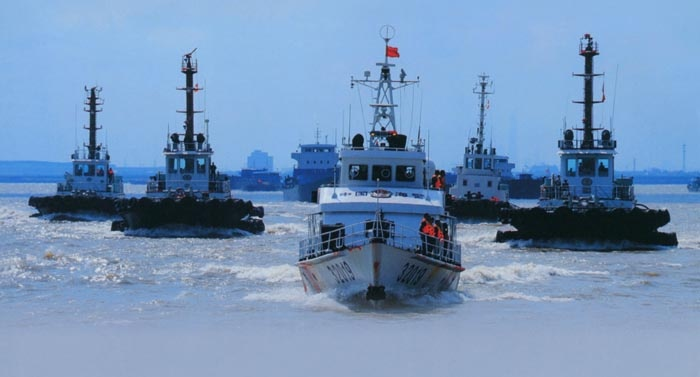otherboat: (294, 28, 468, 311), (500, 28, 682, 252), (105, 54, 268, 245), (26, 84, 127, 227), (449, 69, 515, 221), (274, 133, 344, 204)
